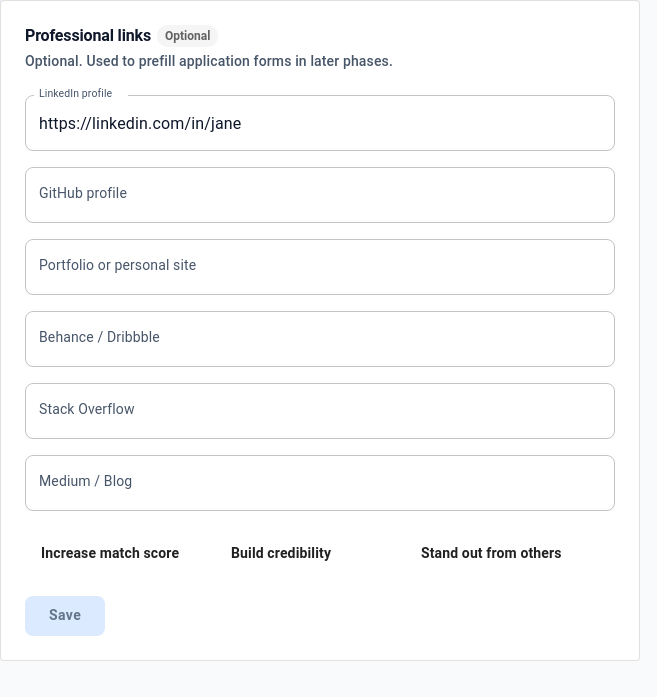
Test: ProfessionalLinksSection AA-024 › shows inline URL validation errors
Replace the text in the field labelled "LinkedIn profile" with "not-a-url": (320, 123) [25,95,615,151]
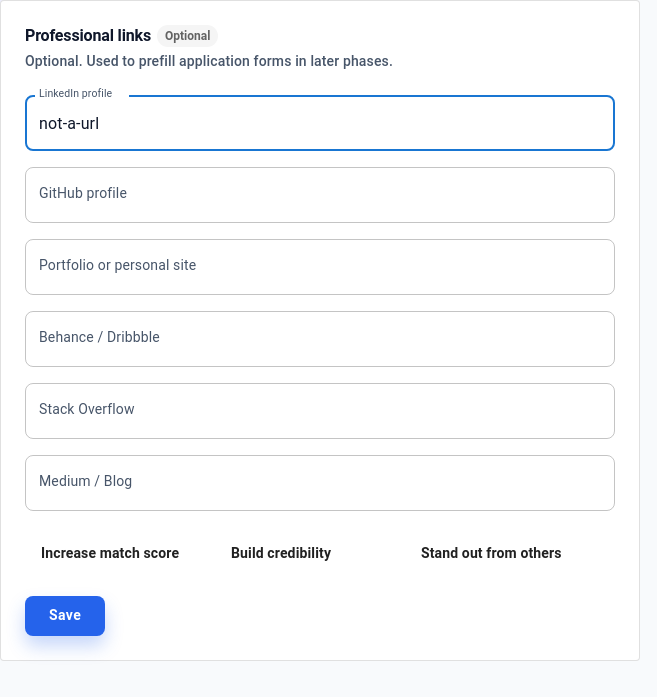
Click the button "Save": click(65, 616) [25,596,105,636]
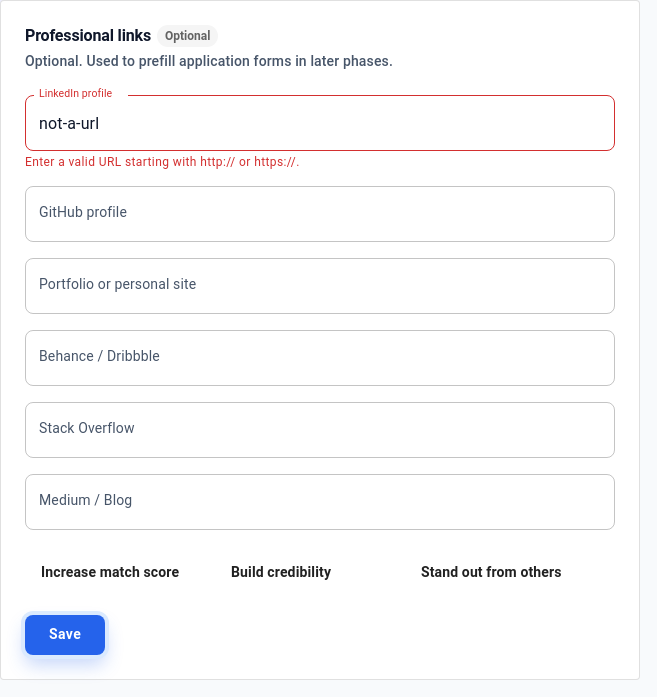
Result: the text "Enter a valid URL starting with http:// or https://." is shown at [25,155,300,169]
